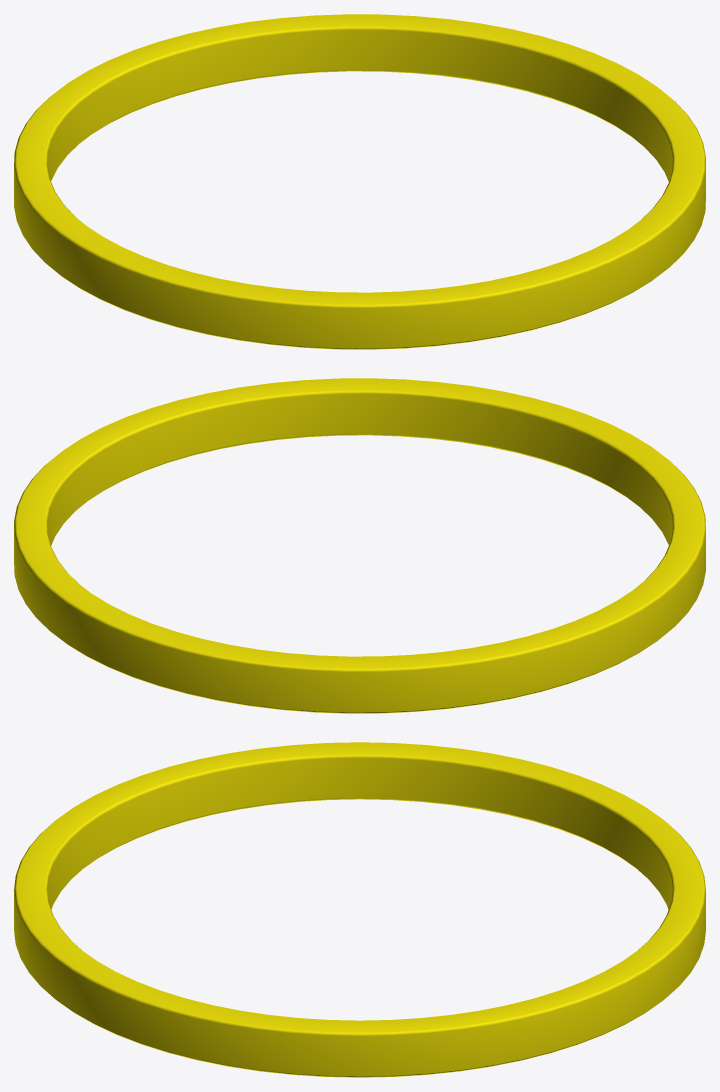
The picture shows the model from 3 angles, top to bottom: view 1: azimuth 30°, elevation 25°; view 2: azimuth 150°, elevation 25°; view 3: azimuth 270°, elevation 25°; orthographic projection.
Visible parts, largest first — view 1: seal_body; view 2: seal_body; view 3: seal_body.
Part boxes in pixels (x1,y1,x2,y2): seal_body: (14,14,705,349); seal_body: (14,378,705,713); seal_body: (14,742,705,1077).
Bounding box in the file's own units: 0.1969 × 0.0143 × 0.1969.
